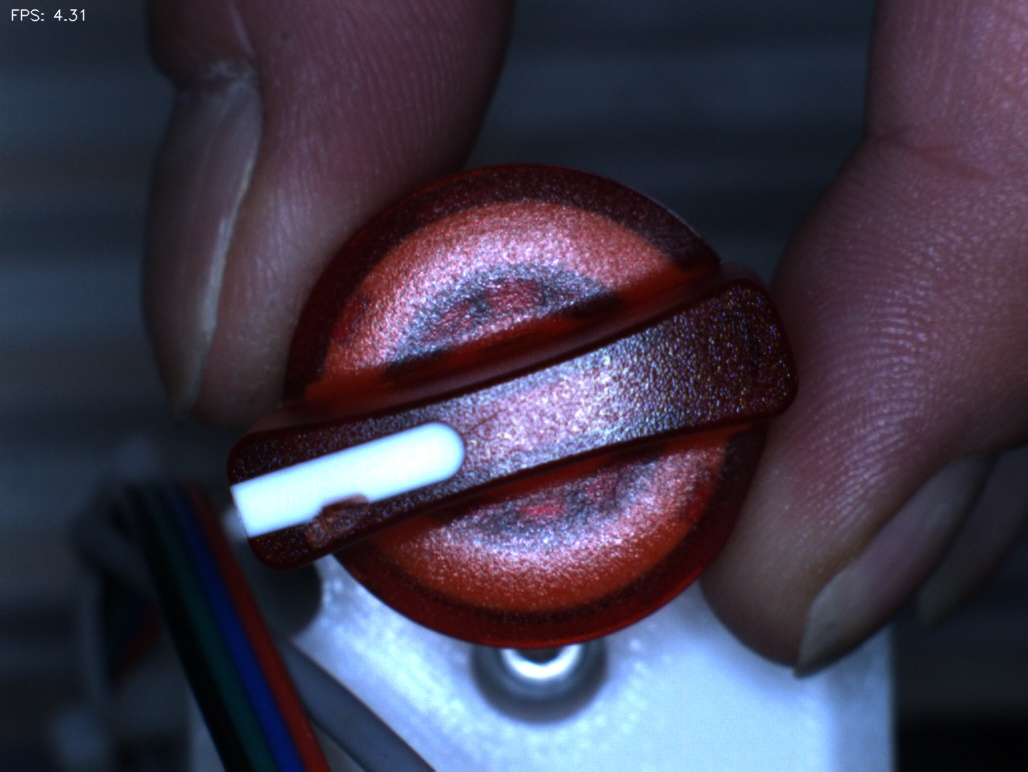Choc: (288, 457, 401, 570)
